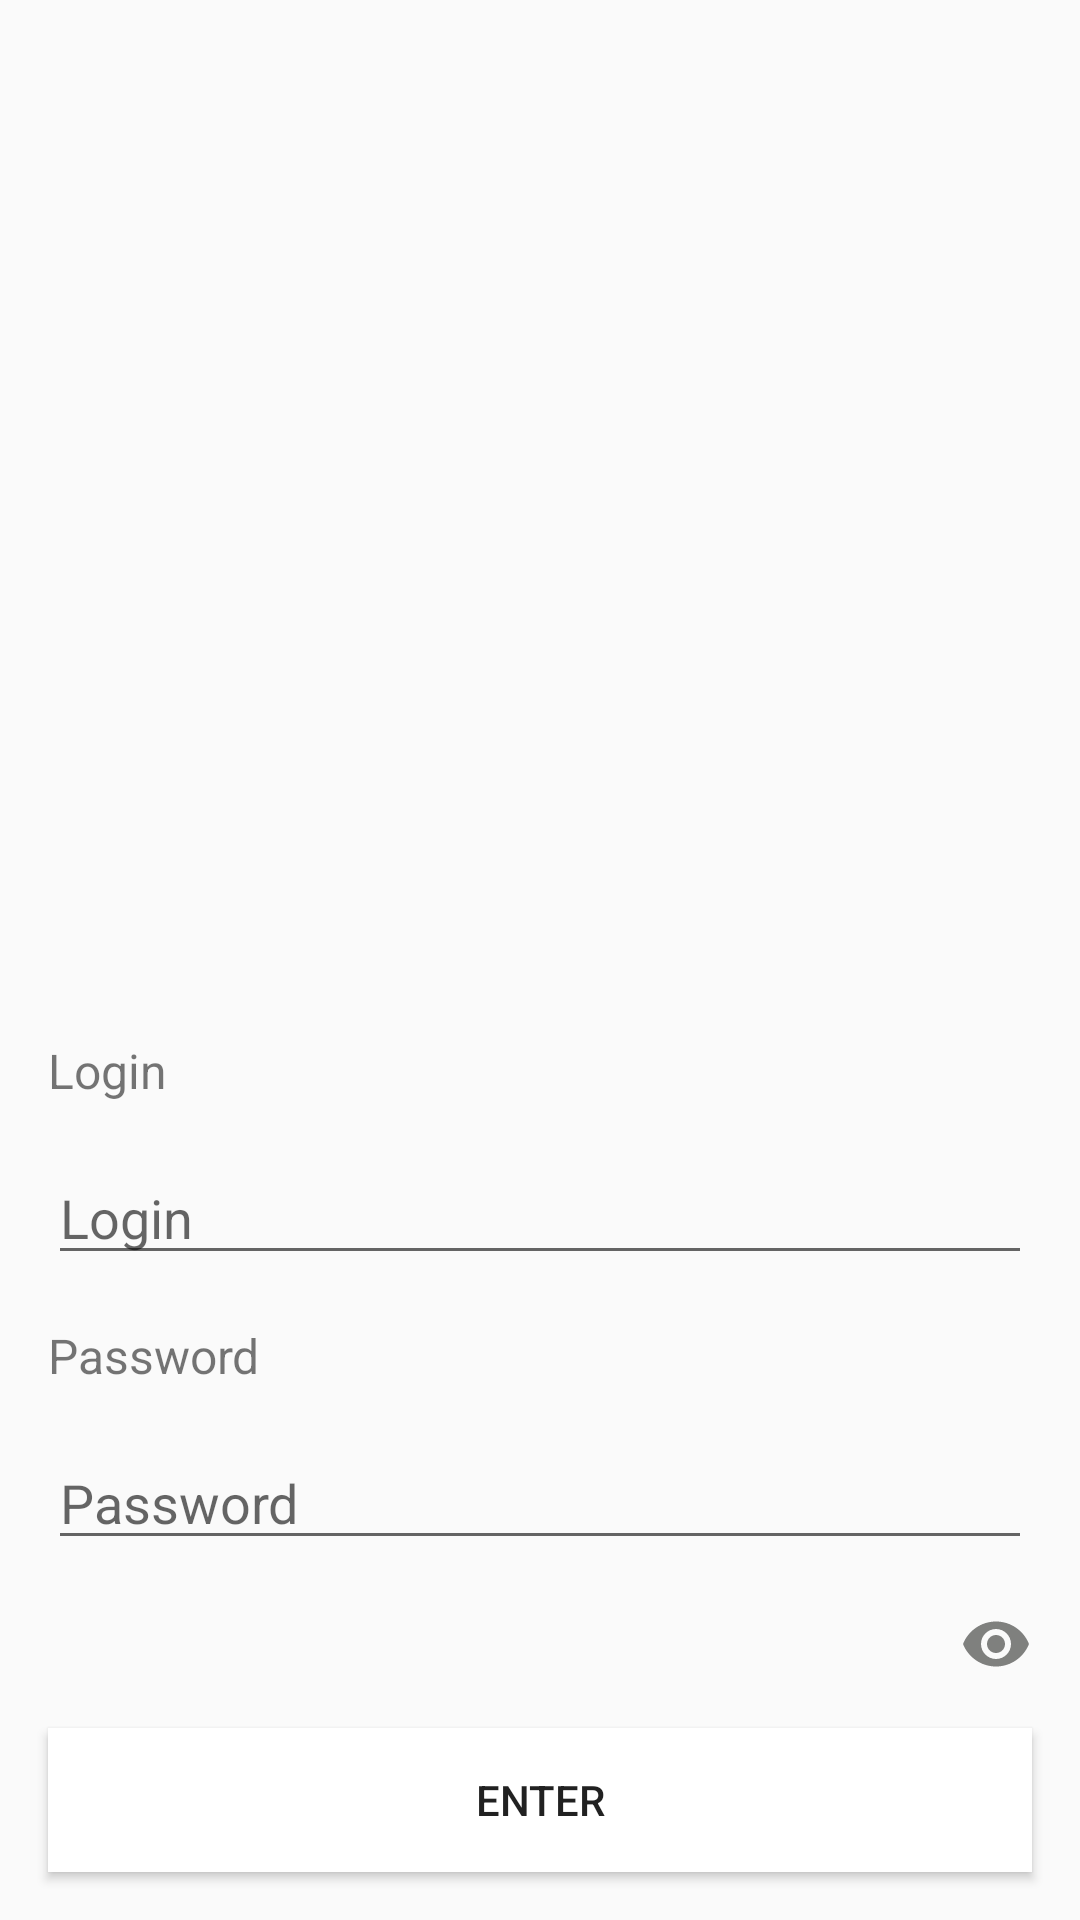

Where icons sit on this 1080*1920 app screen, as rect(x1, y1, x2, y2):
visibility on: rect(963, 1621, 1029, 1667)
